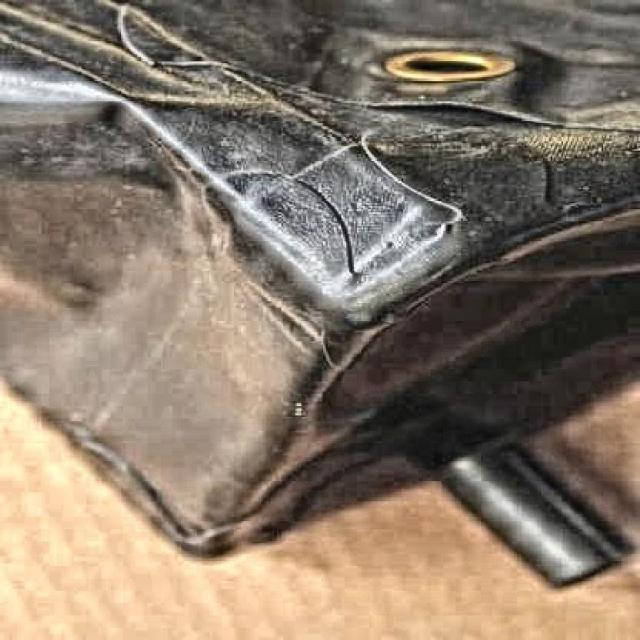crack: (306, 191, 411, 319)
